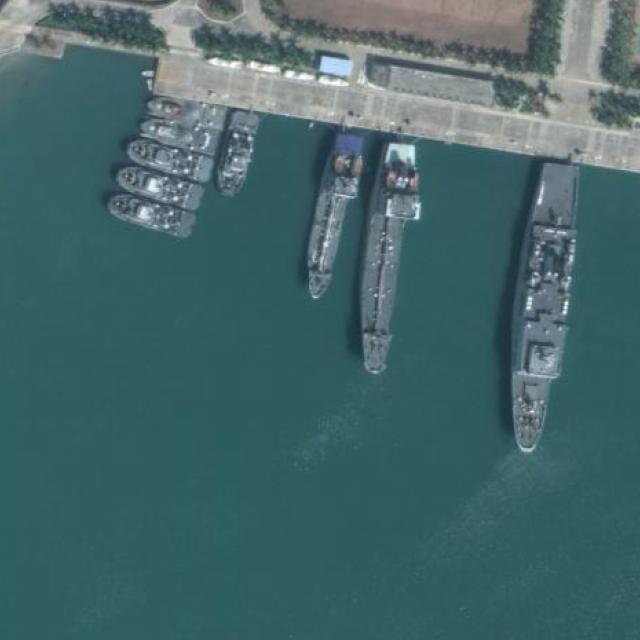Landing: (495, 158, 590, 458), (346, 140, 422, 381), (296, 132, 370, 306)
Other Warship: (211, 108, 264, 203), (120, 134, 215, 187), (103, 189, 197, 242), (111, 161, 206, 213), (136, 111, 222, 158), (145, 95, 228, 129)
